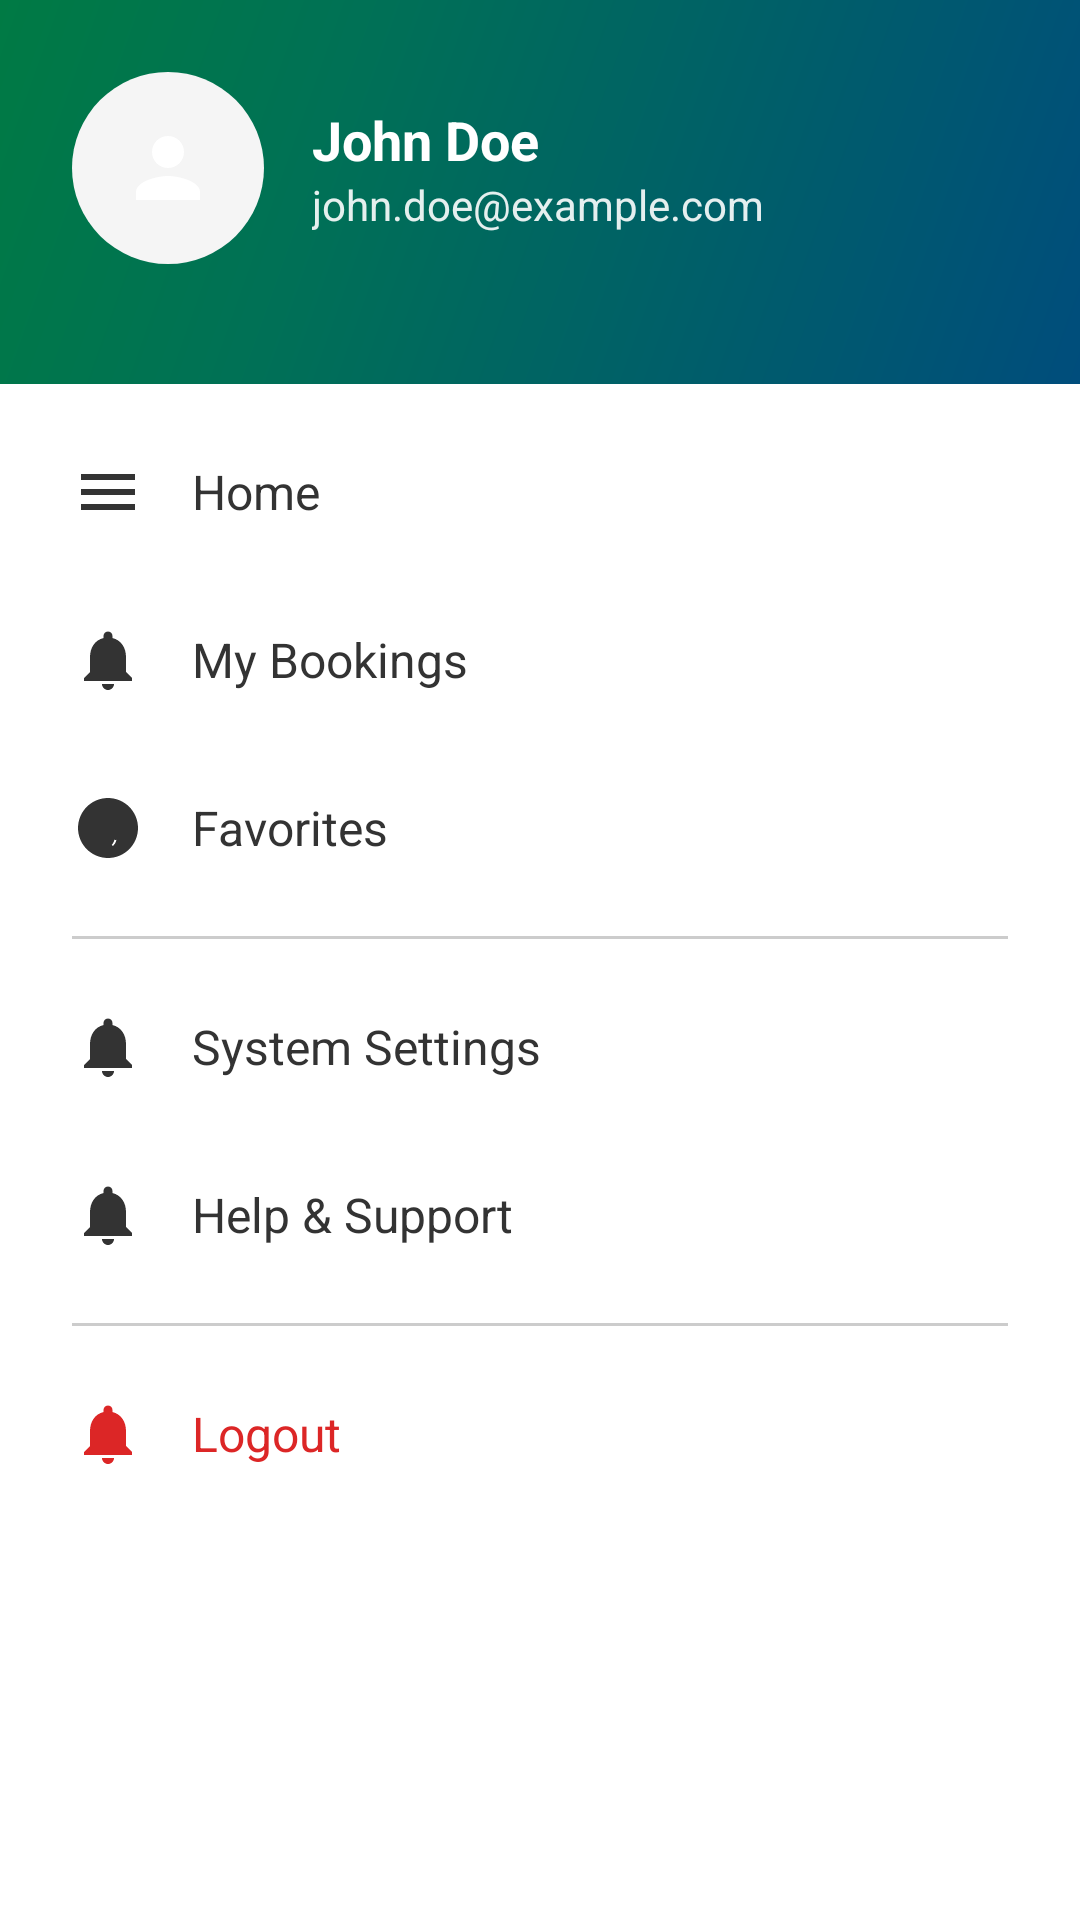

Named icons in this screenshot (1080 × 1920) and their bounding boxes, [x1=x1, y1=y1, x2=x2, y2=y2]:
menu: [x1=81, y1=474, x2=135, y2=510]
notifications: [x1=84, y1=631, x2=132, y2=690], [x1=84, y1=1018, x2=132, y2=1077], [x1=84, y1=1186, x2=132, y2=1245], [x1=84, y1=1405, x2=132, y2=1464]
person: [x1=72, y1=72, x2=264, y2=264]
